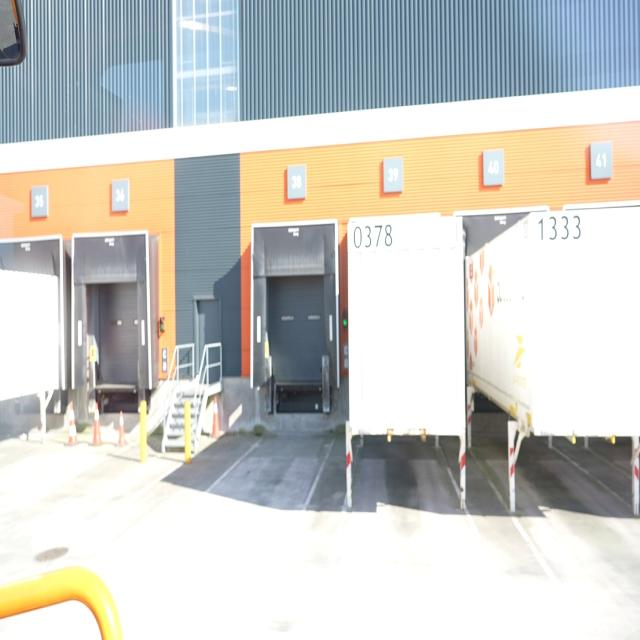Code: (536, 213, 582, 248), (353, 222, 393, 253)
